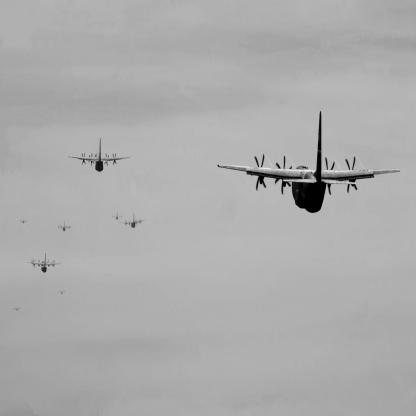C130: (218, 112, 401, 214), (70, 139, 132, 173), (26, 253, 65, 274), (120, 213, 149, 230), (57, 221, 75, 233), (112, 212, 124, 222), (19, 218, 30, 225), (59, 288, 68, 296), (13, 307, 23, 313)
